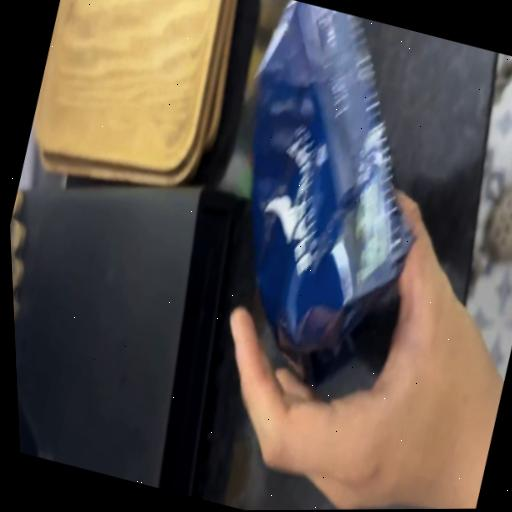cafe_hat: (252, 0, 413, 379)
